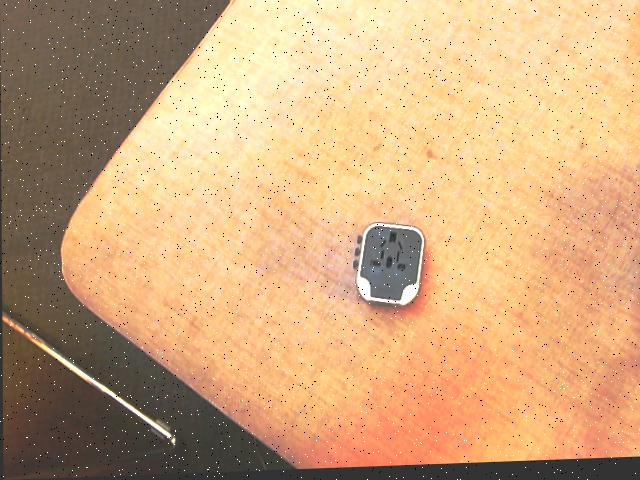adapter: (352, 223, 425, 311)
